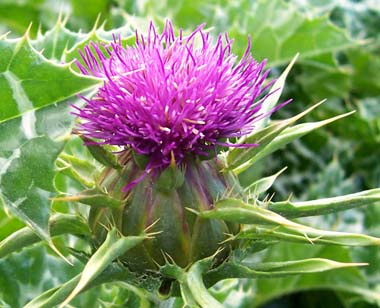thistle: (79, 21, 342, 288)
